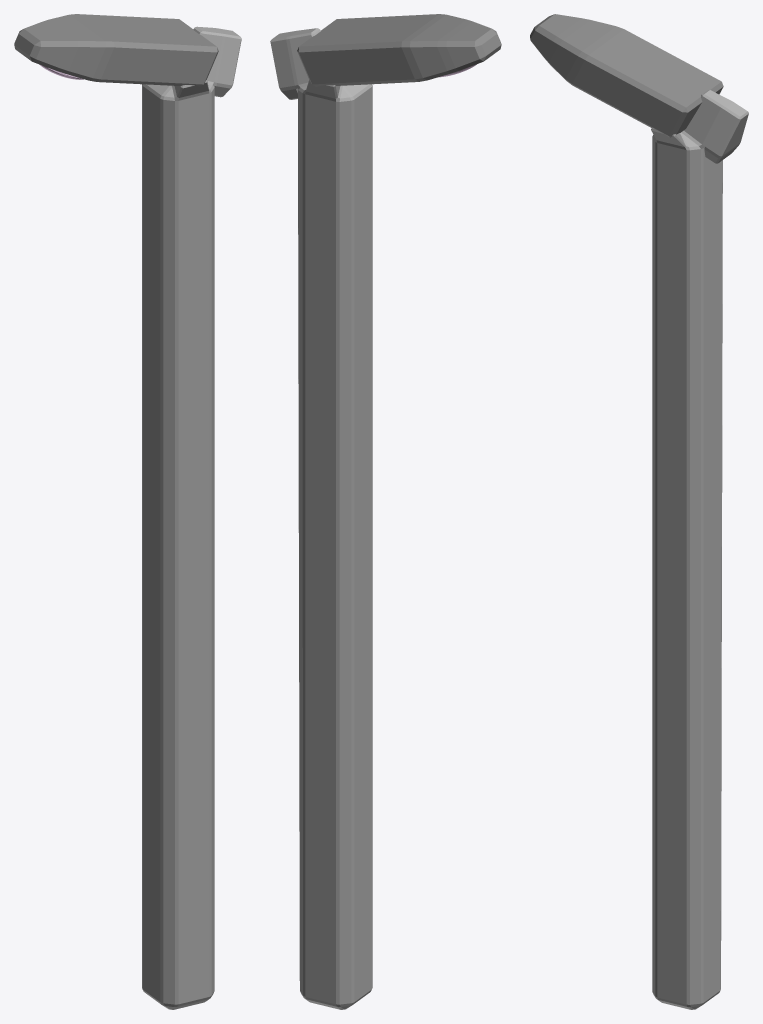
The model's file is Lamp.fbx.
3 renders of one model, left to right at view 1: azimuth 30°, elevation 25°; view 2: azimuth 150°, elevation 25°; view 3: azimuth 330°, elevation 25°, orthographic. The views are drawn at different scales.
Parts seen in each view (by area): view 1: Lamp; view 2: Lamp; view 3: Lamp.
Part boxes in pixels (x1,y1,x2,y2): Lamp: (14,14,241,1009); Lamp: (270,14,501,1009); Lamp: (530,14,748,1009).
Bounding box in the file's own units: 490 × 2154 × 165.
